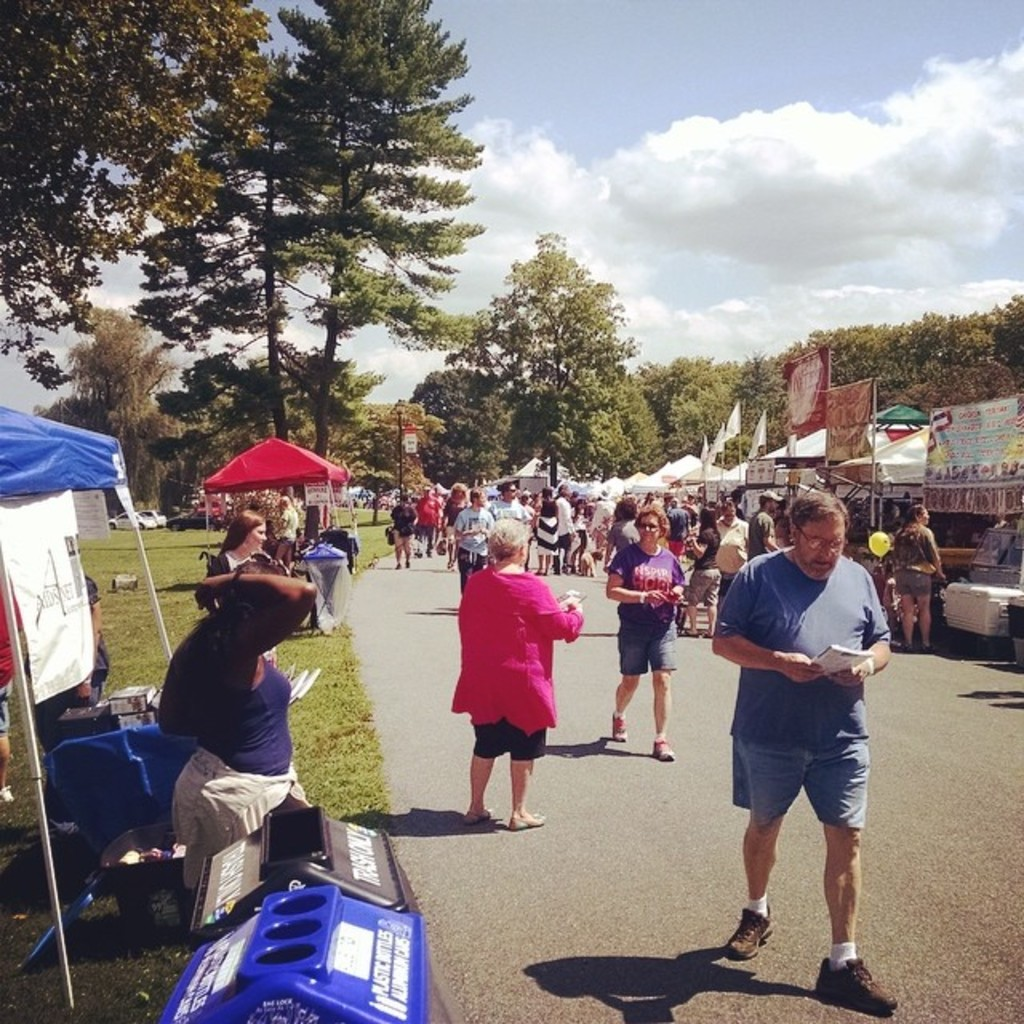Car: (166, 512, 227, 536), (112, 510, 156, 531)
